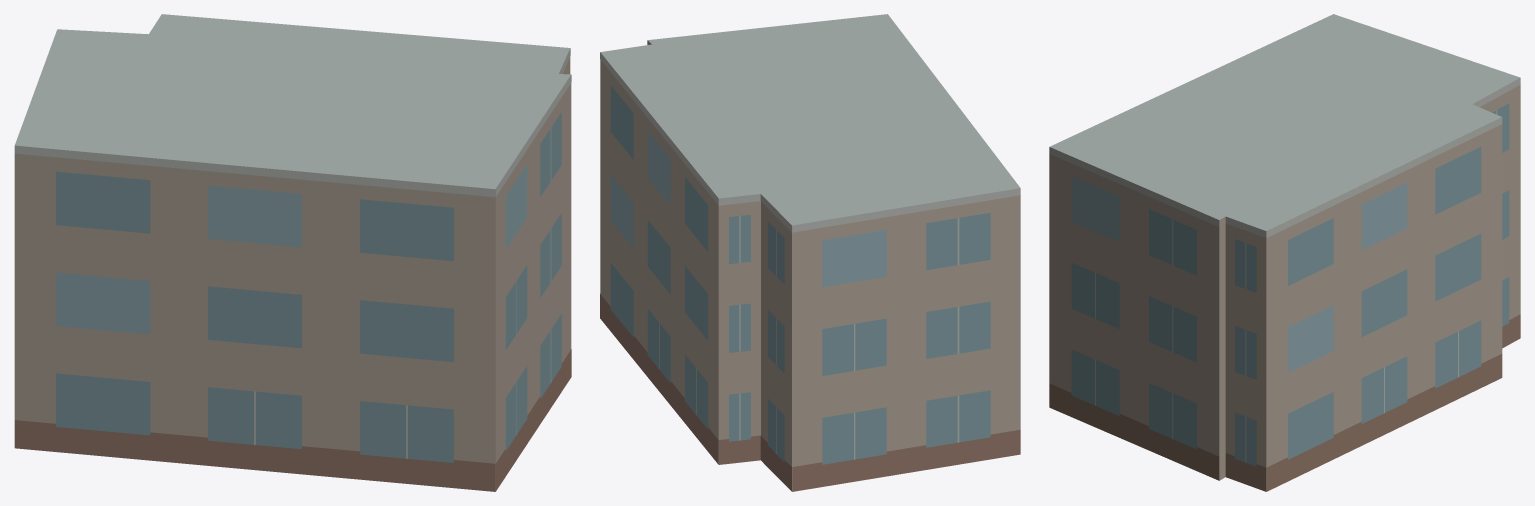
Rendered from survey-upis-32885055.glb.
The picture shows the model from 3 angles, left to right: view 1: azimuth 30°, elevation 25°; view 2: azimuth 150°, elevation 25°; view 3: azimuth 270°, elevation 25°; orthographic projection. The views are drawn at different scales.
Parts seen in each view (by area): view 1: survey-upis-32885055.tmp; view 2: survey-upis-32885055.tmp; view 3: survey-upis-32885055.tmp.
Part boxes in pixels (box(x1,y1,x2,y2)): survey-upis-32885055.tmp: box(14, 14, 571, 491); survey-upis-32885055.tmp: box(600, 14, 1020, 491); survey-upis-32885055.tmp: box(1049, 14, 1520, 491).
Size of the model in its own units: 16.36 by 9.15 by 15.
